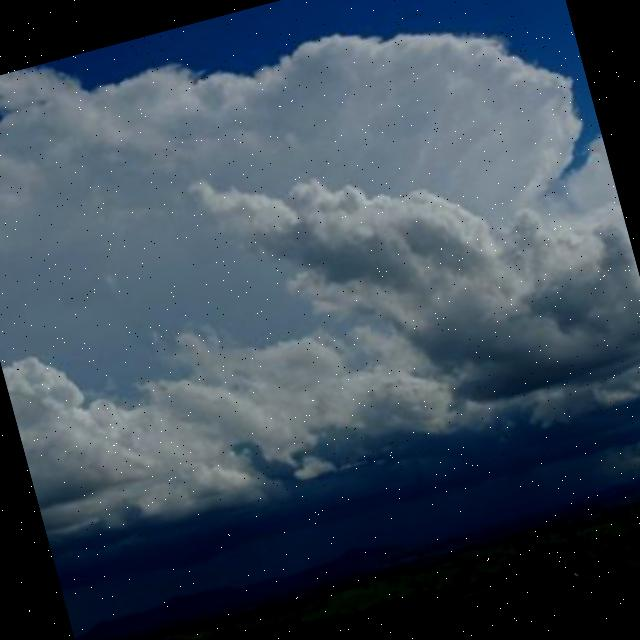Cu: (1, 1, 640, 609)
